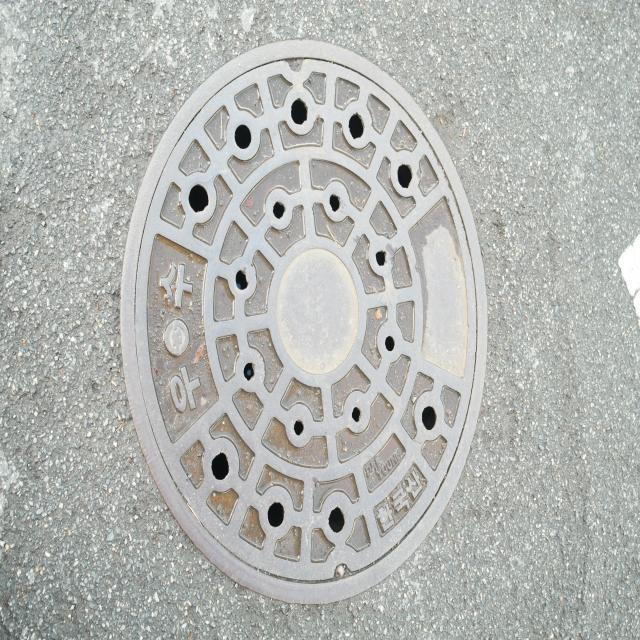manhole: (118, 40, 489, 608)
